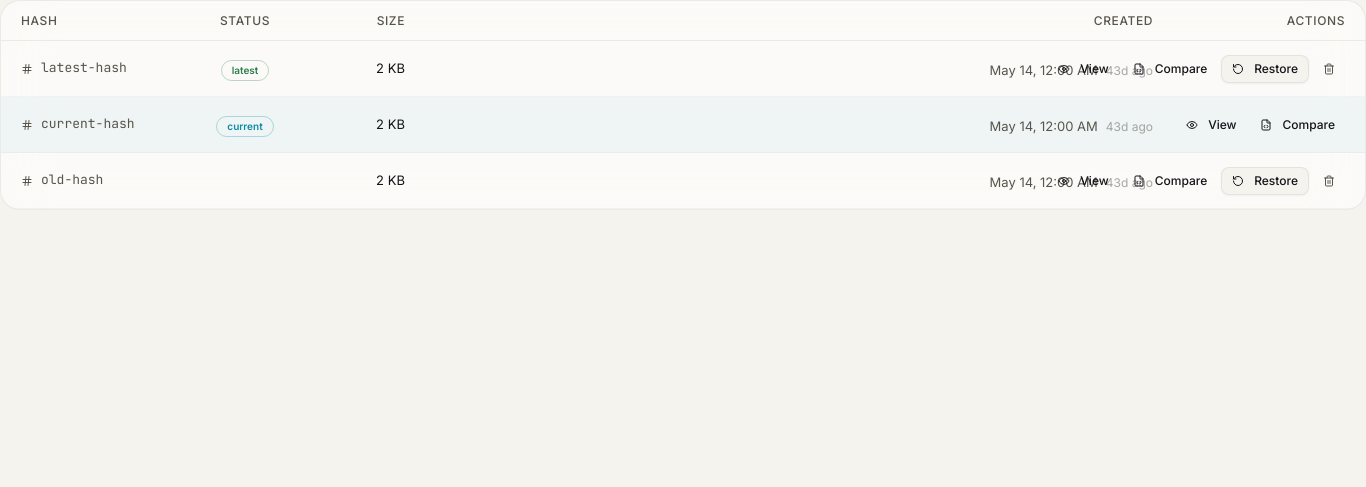
Test case: TemplateVersionHistory › loads snapshot files when View is clicked and toggles the label to Close
Click the button "View" in the row of "latest-hash" at (1083, 68), box [1048,54,1119,82]
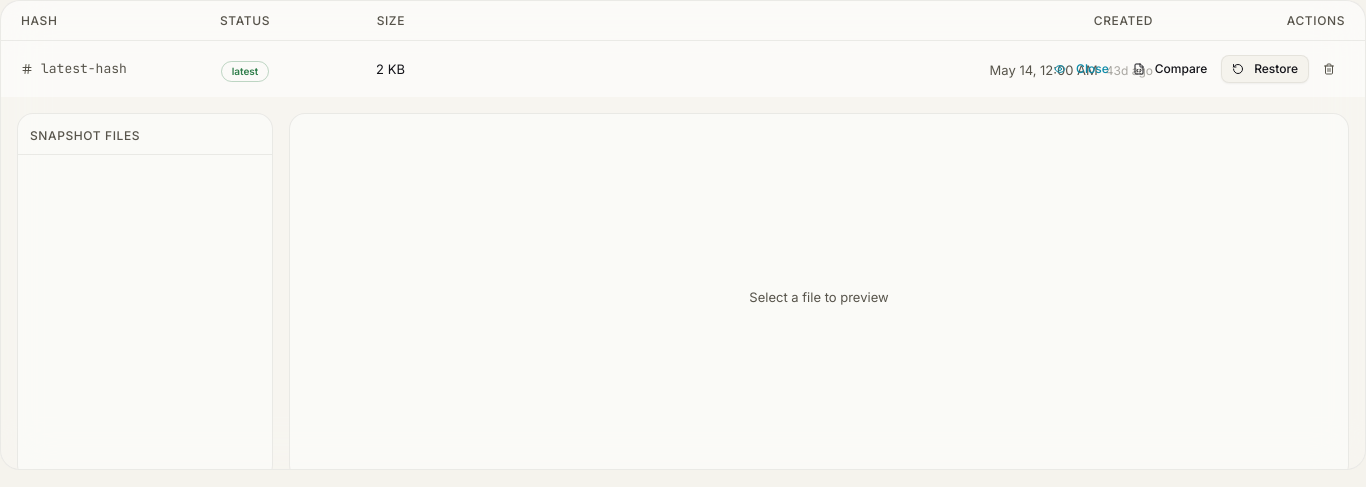
Now the text "Close" is shown, box [1044,55,1119,83]
